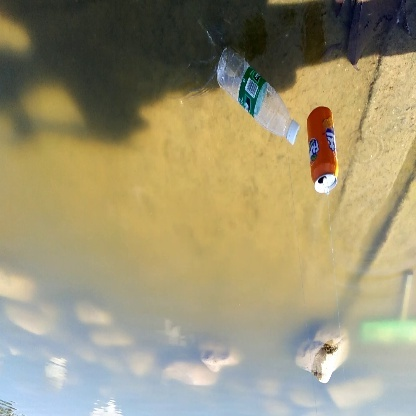bottle: (209, 45, 303, 144), (301, 102, 344, 197)
